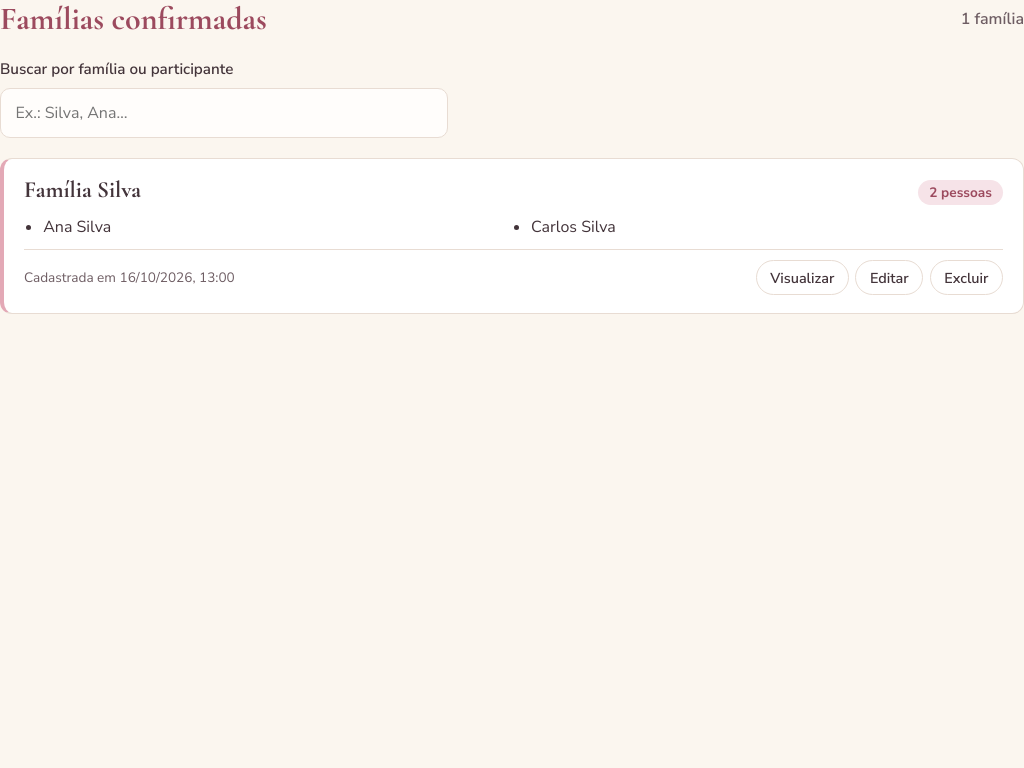
FamiliasPage › edita a família e pede confirmação ao remover participante
The image size is (1024, 768).
Click the button "Editar".
click(889, 278)  # box [855,260,923,296]
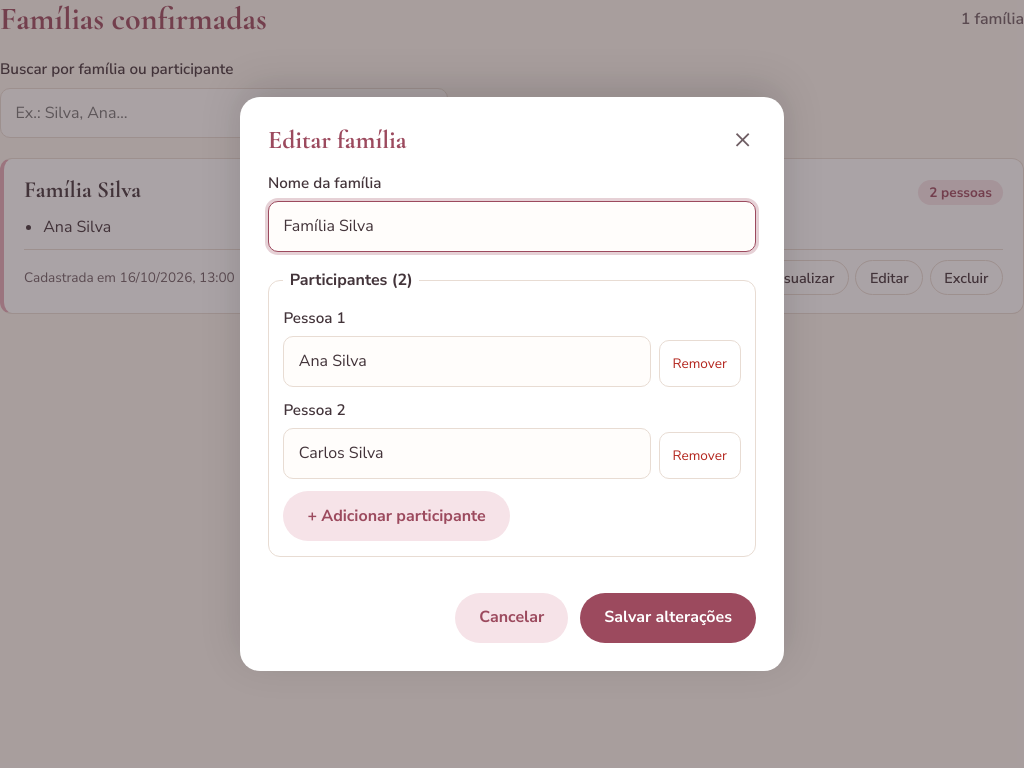
Replace the text in the field labelled "Nome da família" with "Família Silva Souza" at coordinates (512, 226), box [268,201,756,252]
Click the button with aria-label "Remover Carlos Silva".
click(700, 455)  # box [659,432,741,479]
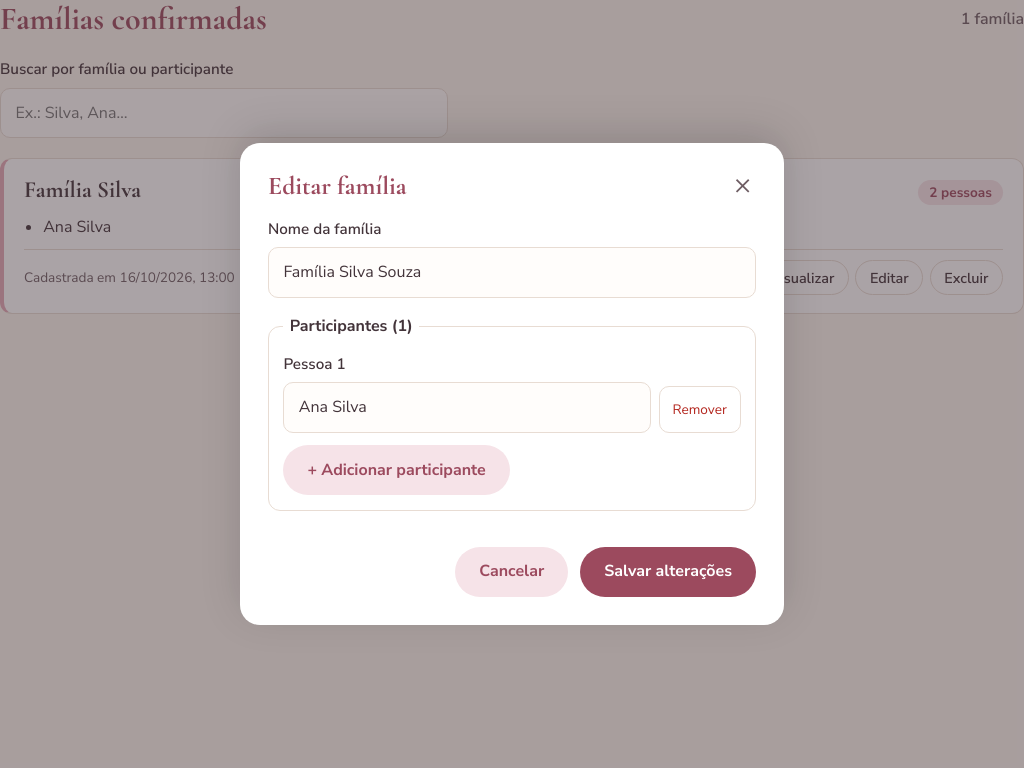
Click the button "+ Adicionar participante".
click(397, 470)  # box [283,445,510,495]
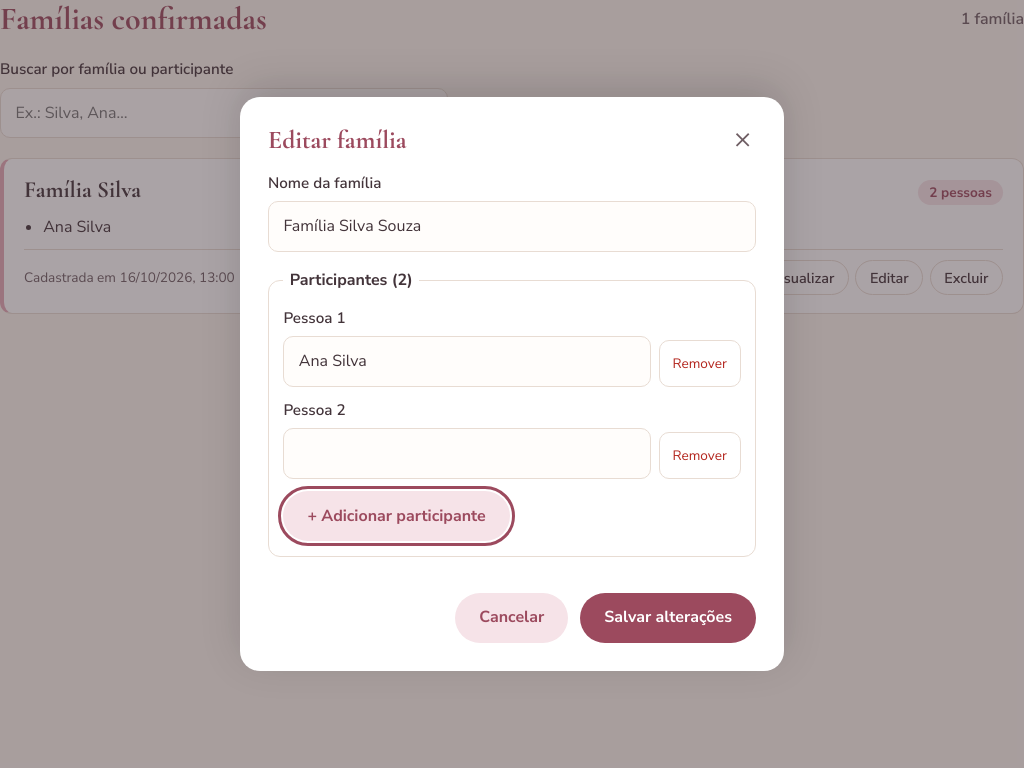
Type "Bia Souza" into the field labelled "Pessoa 2".
click(467, 453); type("Bia Souza")  # box [283,428,651,479]
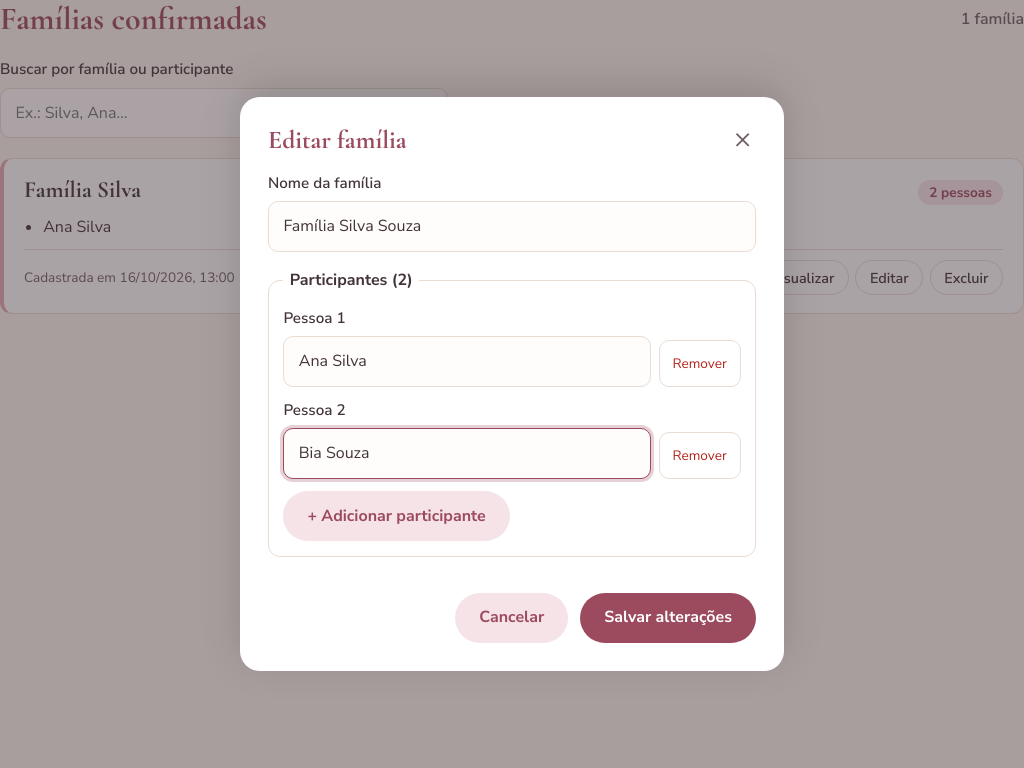
Click the button "Salvar alterações".
click(668, 618)  # box [580,593,756,643]
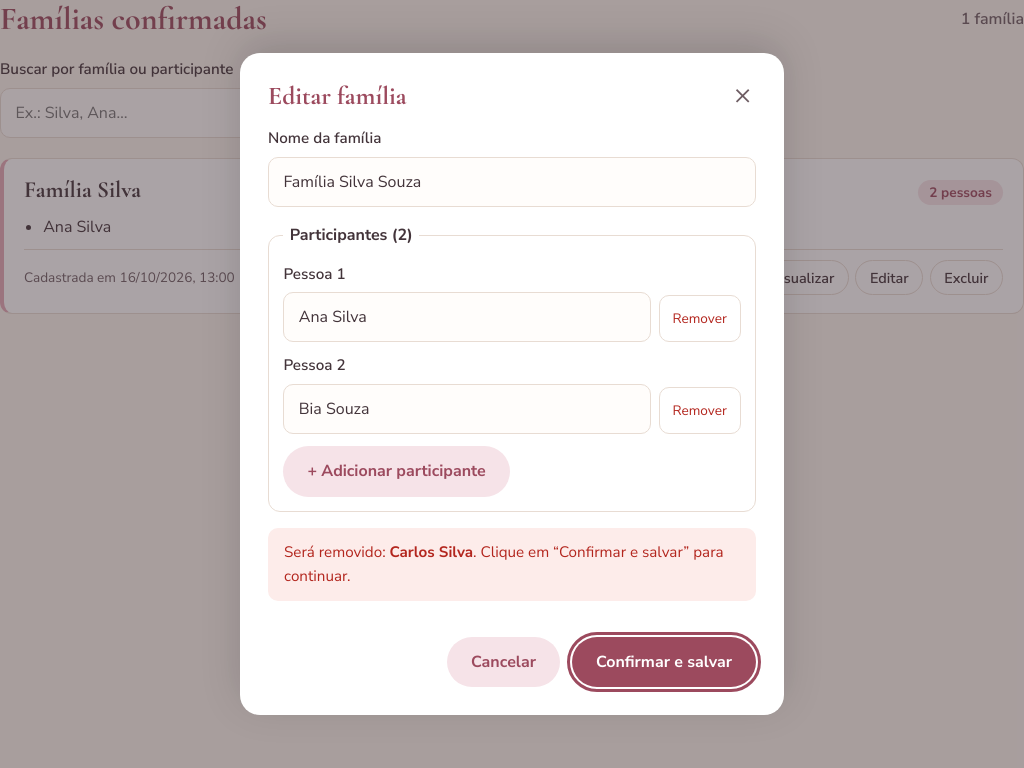
Check: the message shows "Será removido: Carlos Silva", box [268,528,756,601]
Click the button "Confirmar e salvar".
click(664, 662)  # box [572,637,756,687]
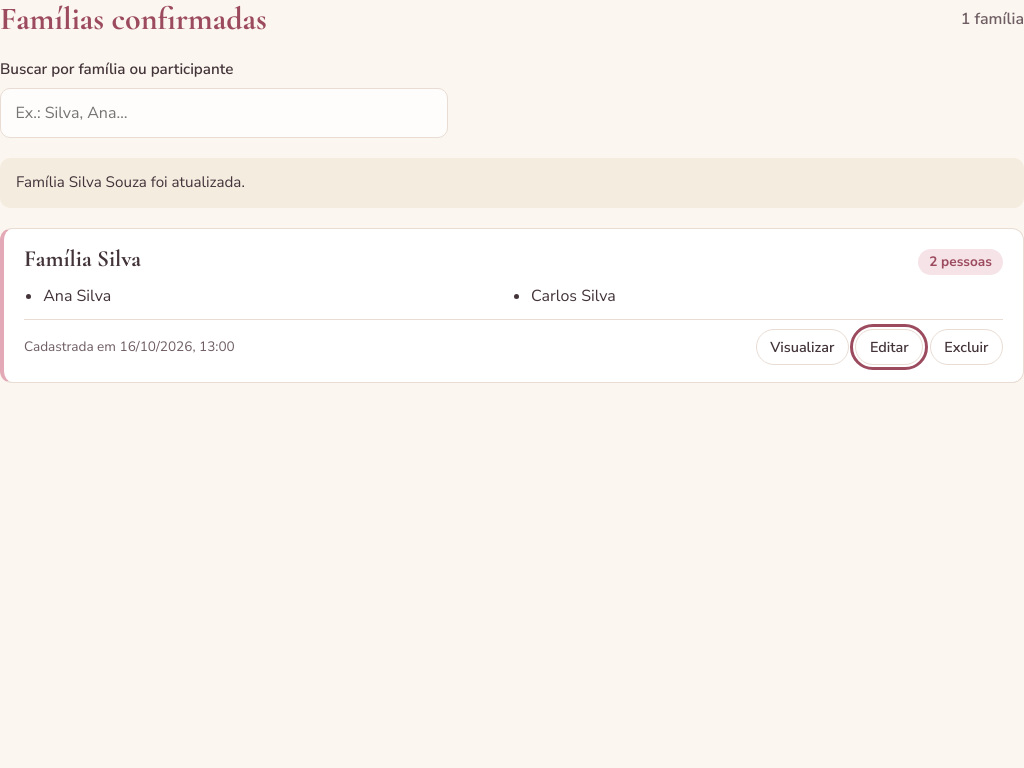
Check: the text "Família Silva Souza foi atualizada." is shown, box [0,158,1023,208]
